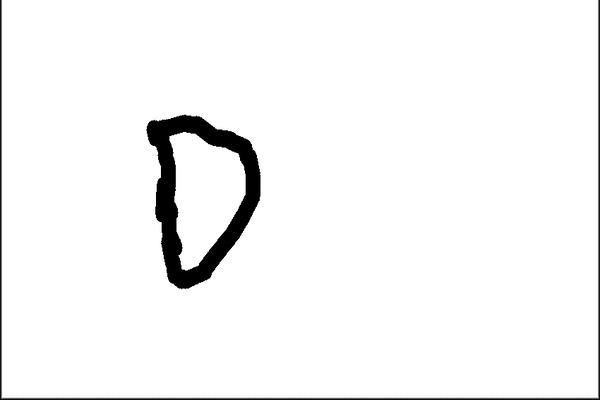D: (139, 105, 268, 293)
